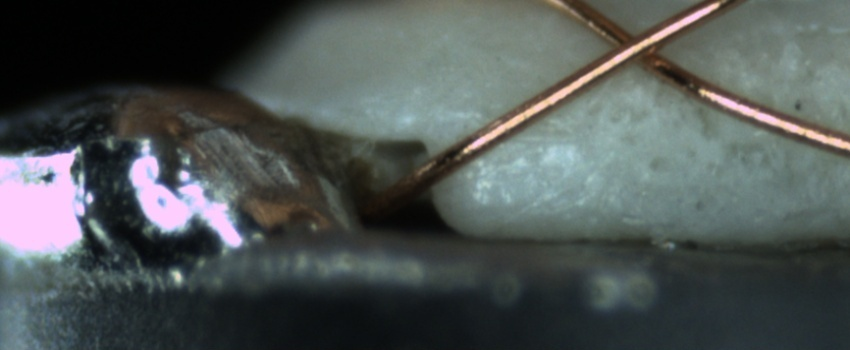CL: (588, 9, 685, 80)
DL: (475, 117, 578, 165)
